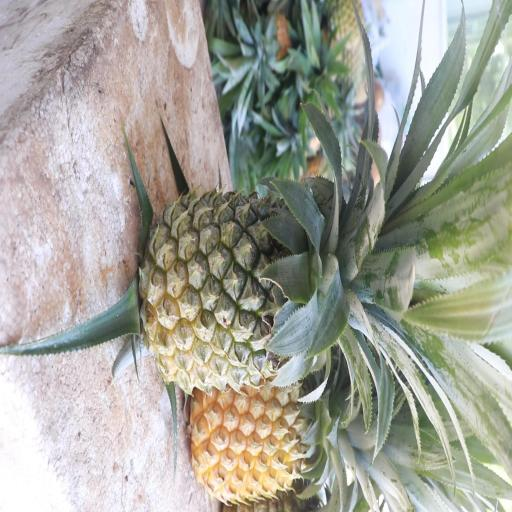------------------------------: (148, 185, 358, 386)
Pineapple - v8 v1: (187, 377, 332, 490)
